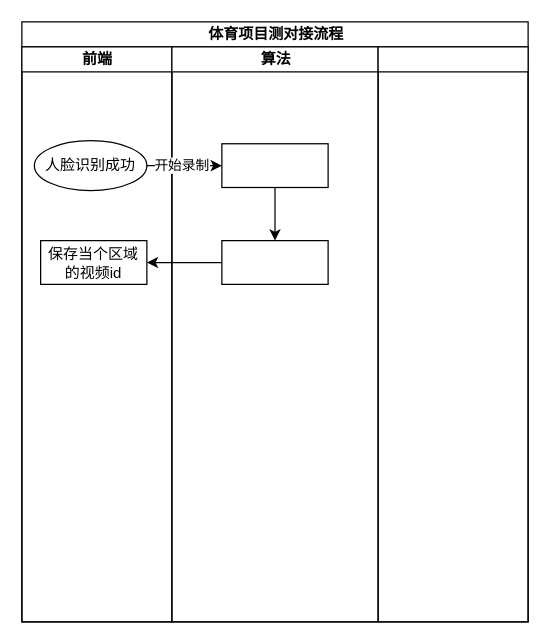
Image size: 550x644. Some labels were removed from this diagram. Here are the shapes that lost their labels. From the top down, the centre of each, then its label:
At point (274, 165): "开启测试区域的视频录制".
At point (274, 261): "返回录制的视频Id".
At point (452, 334): "Lane 3".
